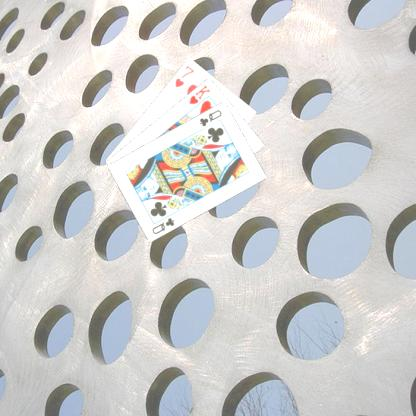7H: (172, 62, 196, 88)
KH: (186, 82, 212, 105)
QC: (197, 106, 223, 128), (149, 214, 176, 235)
